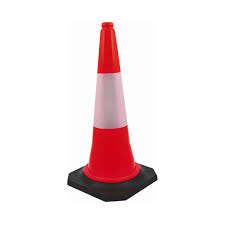cones: (65, 23, 160, 202)
